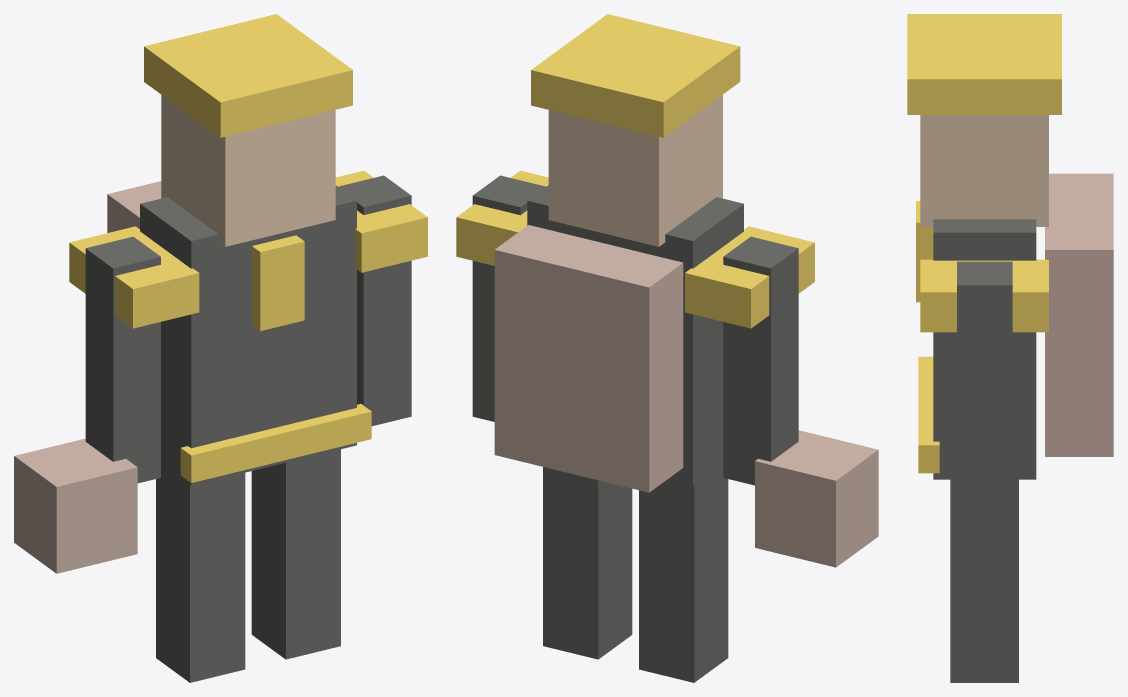
Rendered from 12_mirek_nullborne_engineer_under_coral.glb.
The picture shows the model from 3 angles, left to right: view 1: azimuth 30°, elevation 25°; view 2: azimuth 150°, elevation 25°; view 3: azimuth 270°, elevation 25°; orthographic projection.
Visible parts, largest first — view 1: Mirek Nullborne, Engineer under Coral; view 2: Mirek Nullborne, Engineer under Coral; view 3: Mirek Nullborne, Engineer under Coral.
Part boxes in pixels (bbox=[...]): Mirek Nullborne, Engineer under Coral: bbox=[14, 14, 427, 682]; Mirek Nullborne, Engineer under Coral: bbox=[456, 14, 878, 682]; Mirek Nullborne, Engineer under Coral: bbox=[907, 14, 1113, 682].
Size of the model in its own units: 0.9966 by 1.54 by 0.4808.
